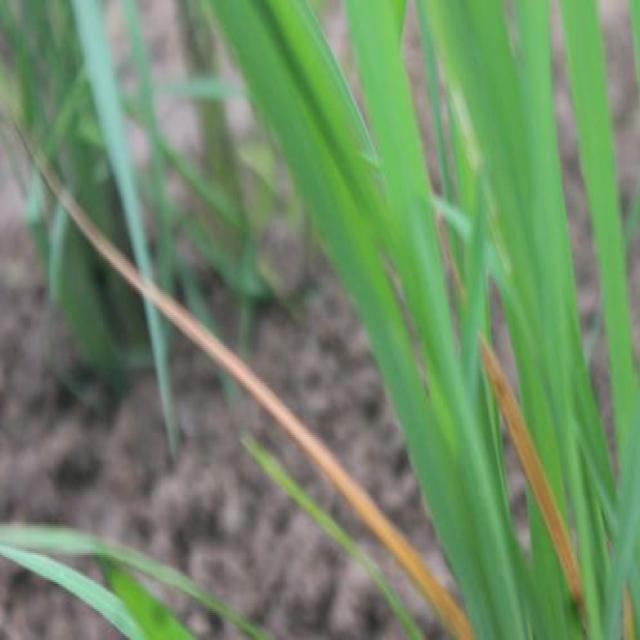Tungro: (18, 106, 473, 636)
